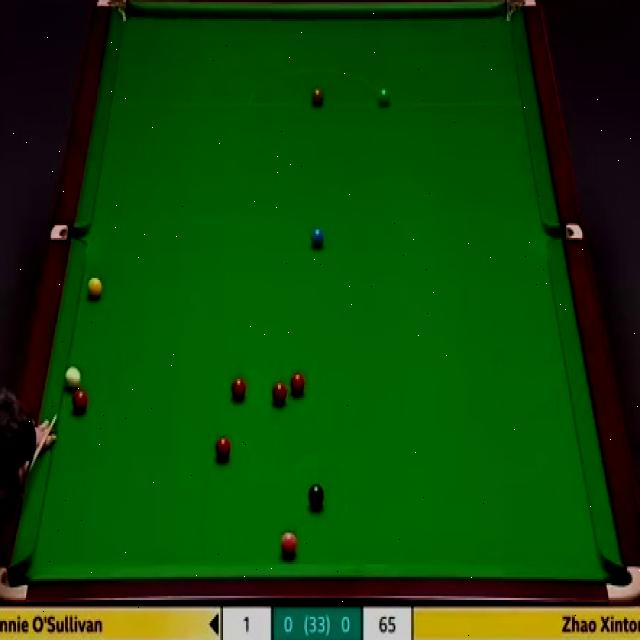black-ball: (308, 483, 326, 510)
blue-ball: (310, 225, 325, 250)
brown-ball: (310, 88, 324, 108)
green-ball: (378, 86, 390, 110)
pink-ball: (278, 529, 298, 558)
red-ball: (70, 386, 88, 414), (231, 375, 248, 404), (214, 435, 232, 462), (271, 381, 288, 409), (290, 371, 305, 398)
white-ball: (64, 364, 80, 389)
yellow-ball: (86, 276, 102, 301)
